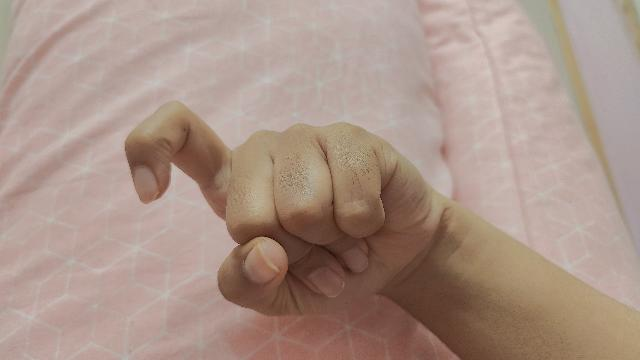tamrachud: (123, 102, 640, 360)
